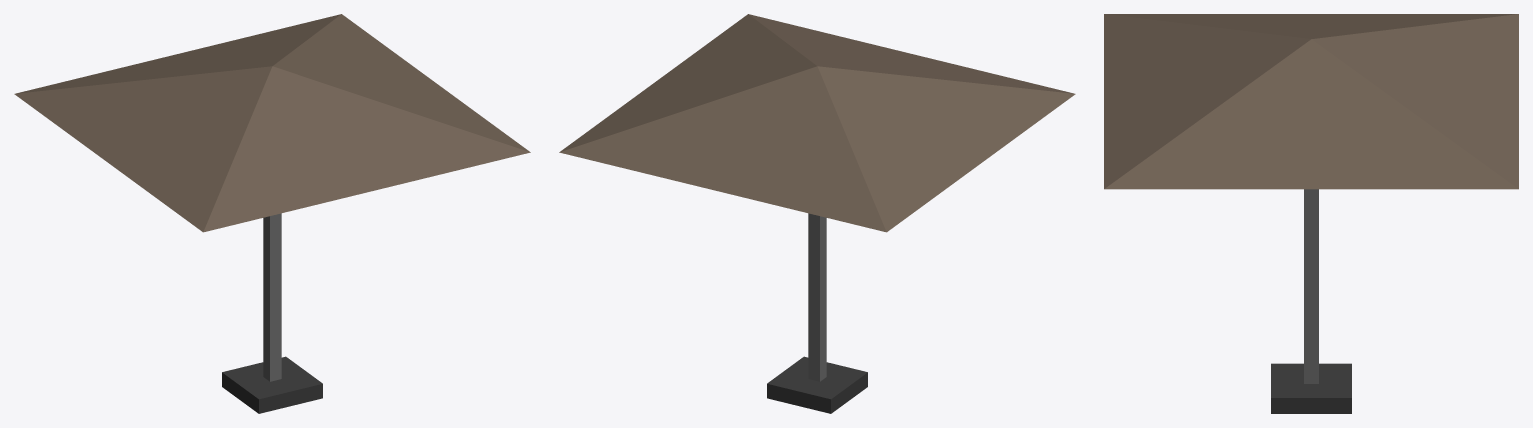
Rendered from Umbrella_02.fbx.
3 views of the same model, side by side, from view 1: azimuth 30°, elevation 25°; view 2: azimuth 150°, elevation 25°; view 3: azimuth 270°, elevation 25° (orthographic). The views are drawn at different scales.
Parts seen in each view (by area): view 1: Umbrella_02; view 2: Umbrella_02; view 3: Umbrella_02.
Boxes of the visible parts, box(x1,y1,x2,y2) form: Umbrella_02: box(14, 14, 530, 413); Umbrella_02: box(559, 14, 1075, 413); Umbrella_02: box(1104, 14, 1518, 413).
Size of the model in its own units: 300 by 285 by 300.
